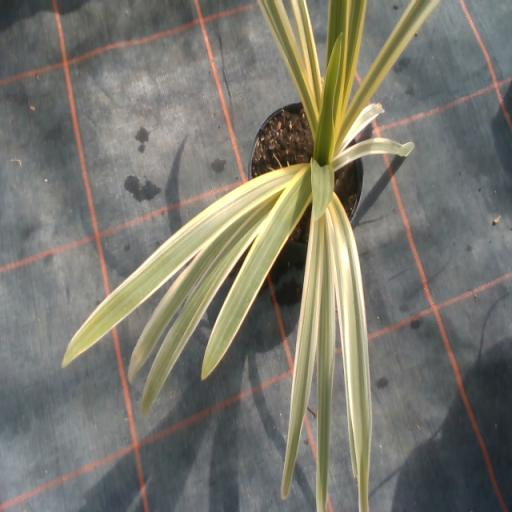Agapanthus-praecox: (62, 171, 297, 366), (202, 167, 310, 378), (142, 221, 258, 411), (130, 214, 250, 381), (328, 196, 371, 511), (340, 0, 439, 135), (282, 221, 324, 497), (258, 0, 318, 127), (317, 213, 335, 510), (314, 36, 343, 165), (291, 0, 321, 105), (331, 138, 414, 170), (343, 0, 366, 110), (339, 103, 383, 156), (312, 159, 334, 220), (327, 0, 349, 60)
